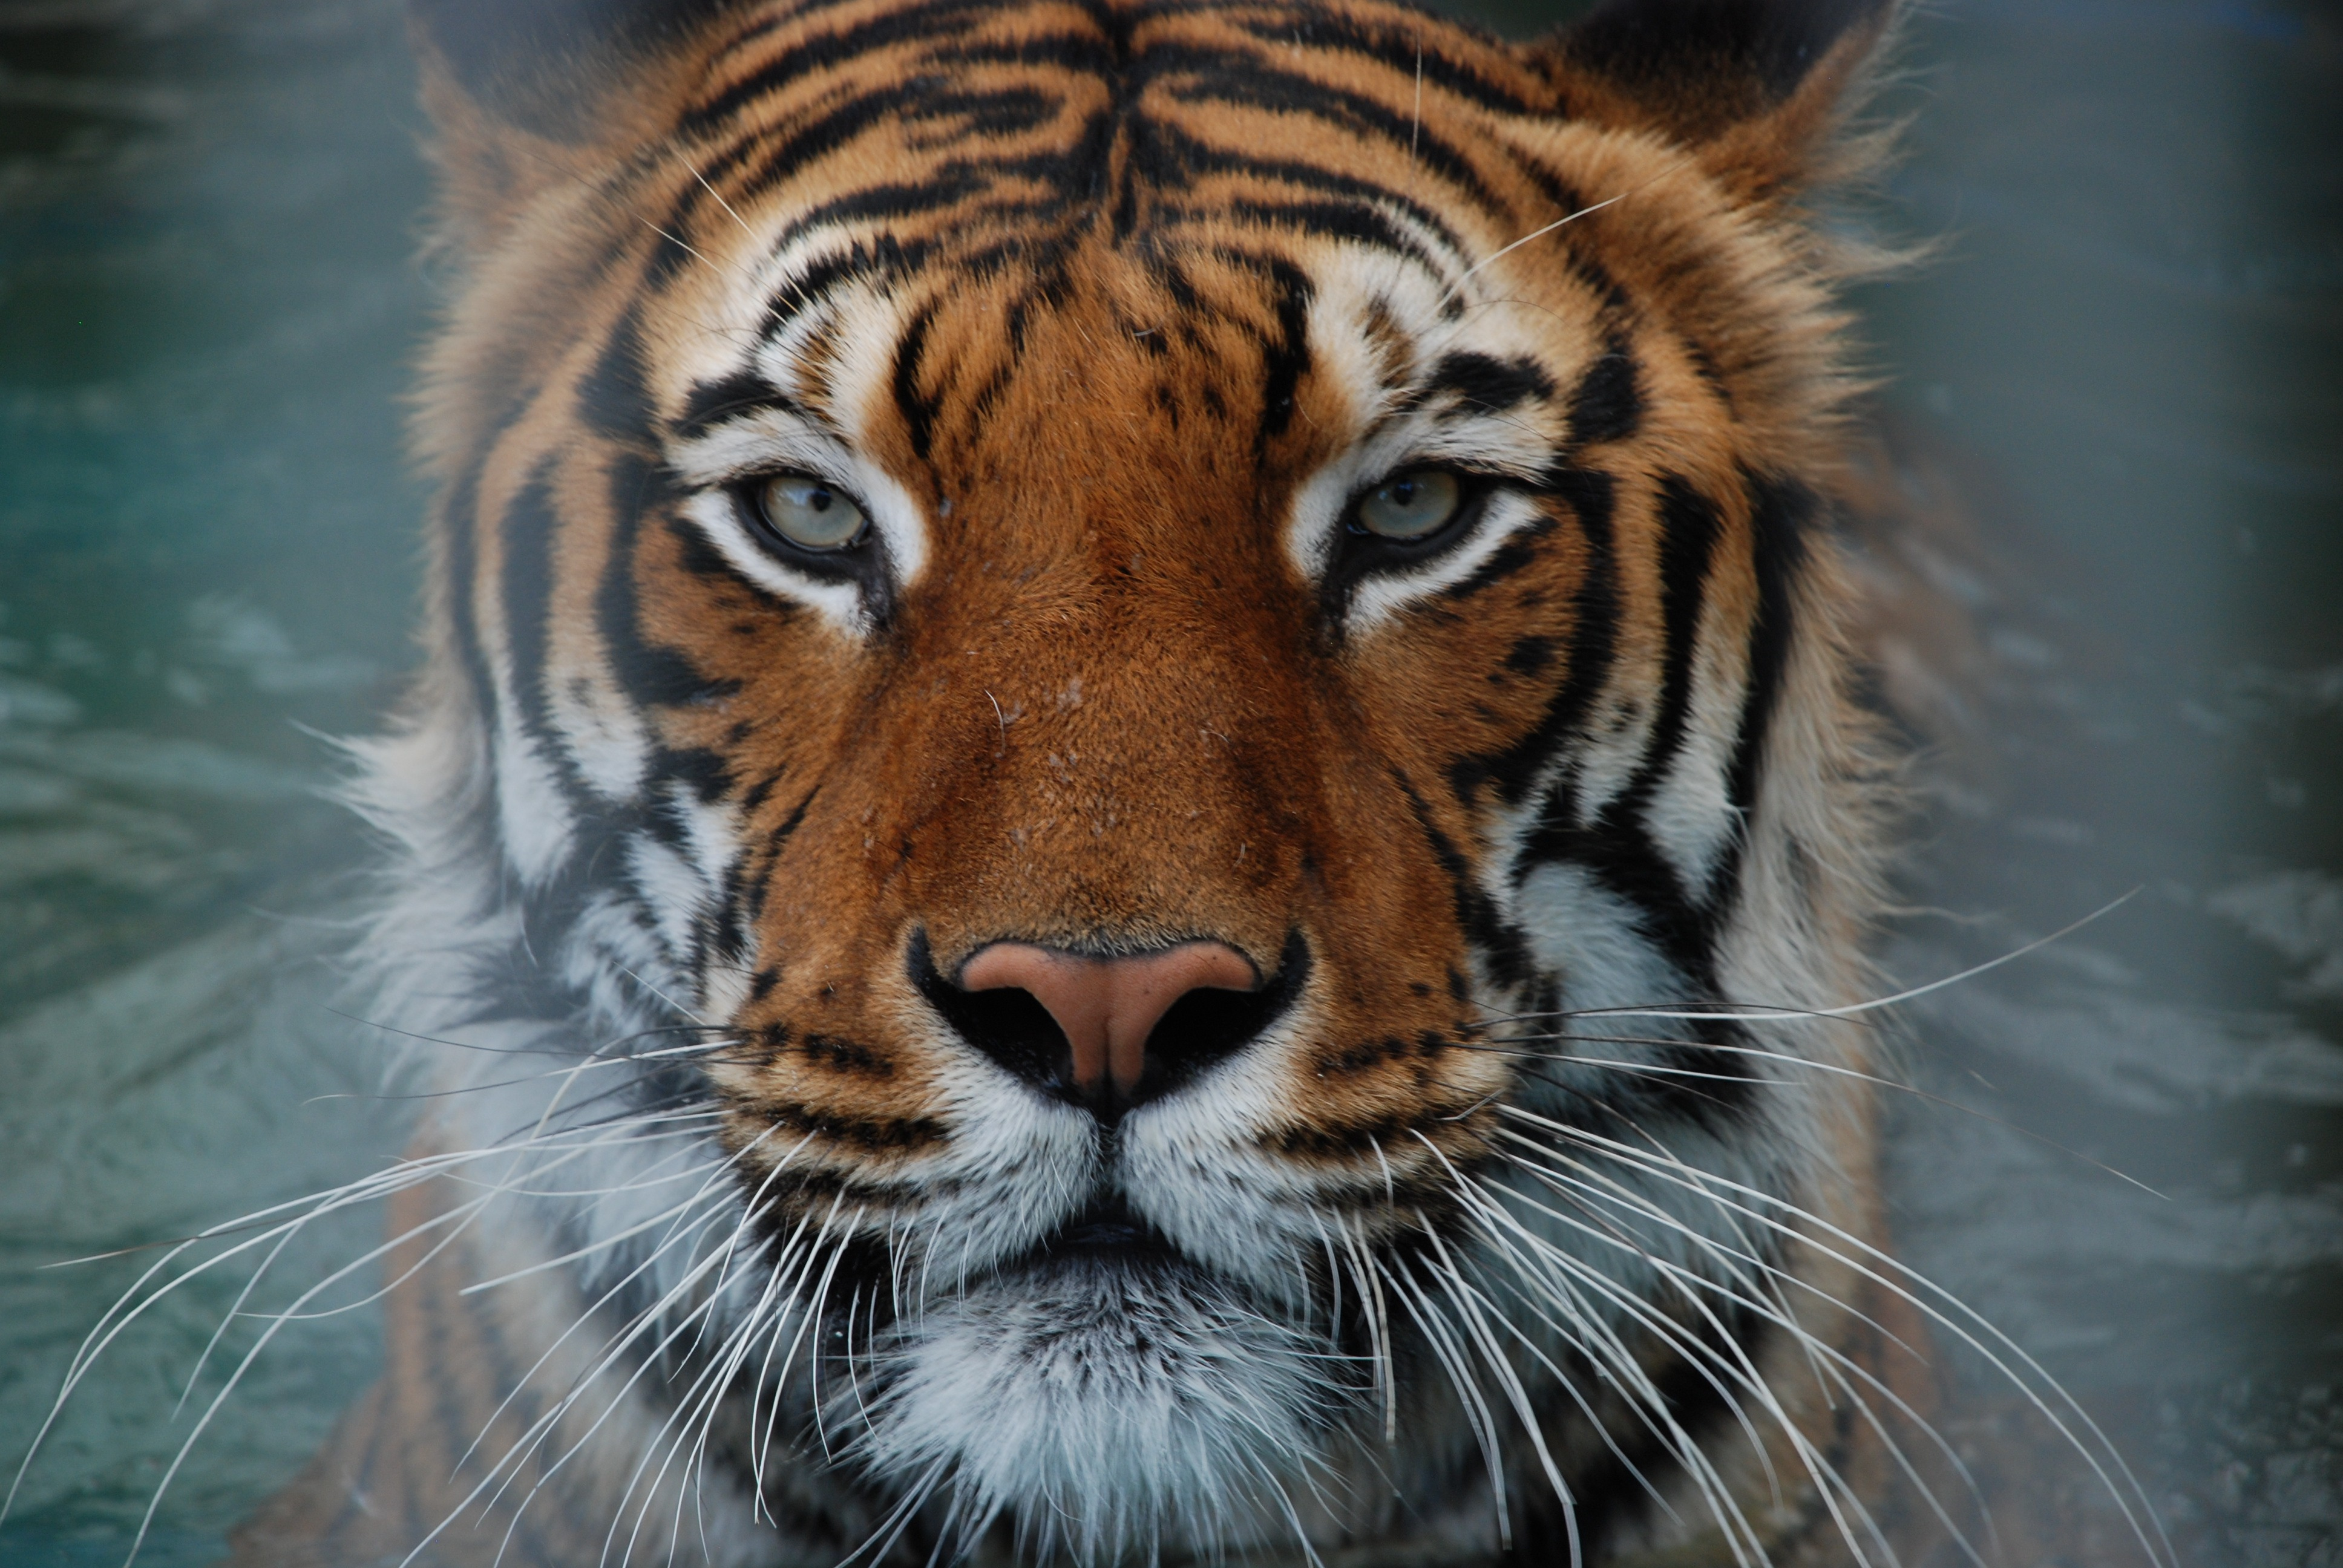tiger: (282, 54, 2000, 1512)
